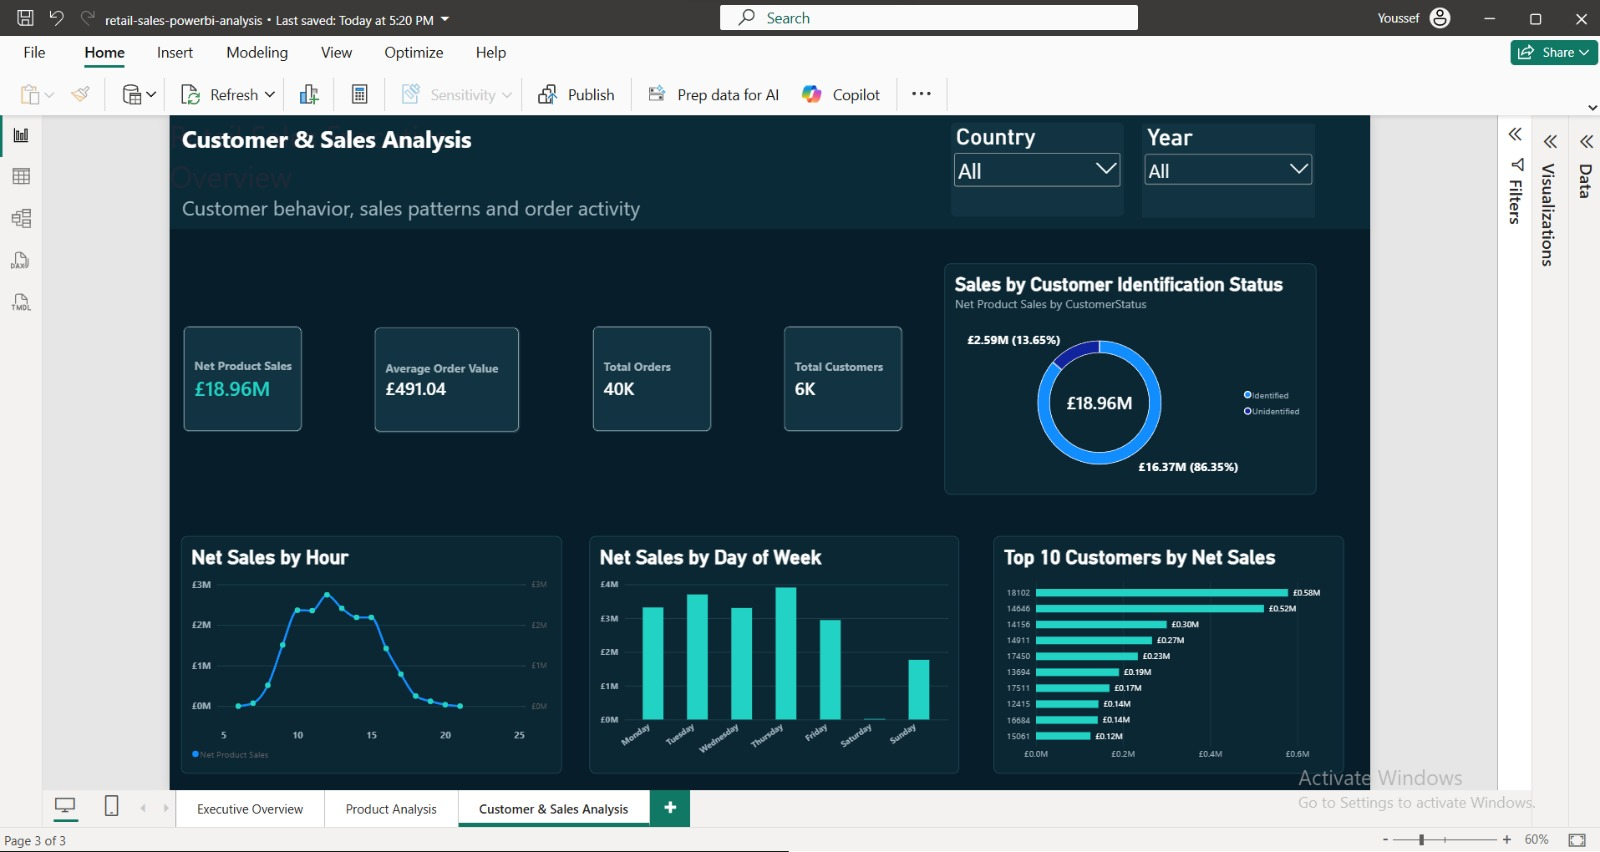

The dashboard page shown, as its layout file describes it:
{"tool":"powerbi","page":{"name":"Customer & Sales Analysis","canvas":[1920,1080],"ordinal":2},"visuals":[{"type":"shape","box":[0,0,1920.2,182],"z":0},{"type":"cardVisual","title":"Net Sales","fields":{"Data":["_Measures.Net Product Sales"]},"box":[20.9,336.6,190,169],"z":1000},{"type":"cardVisual","title":"Gross Sales","fields":{"Data":["_Measures.Average Order Value"]},"box":[327,338.4,233,168.7],"z":2000},{"type":"cardVisual","title":"Total Orders","fields":{"Data":["_Measures.Total Orders"]},"box":[676,337.2,190,169],"z":4000},{"type":"cardVisual","title":"Total Customers","fields":{"Data":["_Measures.Total Customers"]},"box":[982,337.8,190,169],"z":5000},{"type":"textbox","box":[0,0,505.5,169.8],"z":7000},{"type":"lineChart","title":"Net Sales by Hour","fields":{"Category":["Fact_Sales.Hour"],"Y":["_Measures.Net Product Sales"],"Y2":["_Measures.Net Product Sales"]},"box":[19.2,673.3,608.7,380.2],"z":8000},{"type":"barChart","title":"Top 10 Customers by Net Sales","fields":{"Category":["Dim_Customer.Customer ID"],"Y":["_Measures.Net Product Sales"]},"box":[1316.9,673.3,559.9,380.2],"z":9000},{"type":"textbox","box":[20.1,12.1,650.7,100.4],"z":10000},{"type":"textbox","box":[20,125.2,963.5,43.4],"z":11000},{"type":"slicer","fields":{"Values":["Dim_Country.Country"]},"box":[1249.2,12.1,277,150],"z":12000},{"type":"slicer","fields":{"Values":["Dim_Date.Year"]},"box":[1555.3,13,277,150],"z":13000},{"type":"donutChart","title":"Sales by Customer Identification Status","fields":{"Category":["Fact_Sales.CustomerStatus"],"Y":["_Measures.Net Product Sales"]},"box":[1238.4,237.2,594.8,369.8],"z":13001},{"type":"columnChart","title":"Net Sales by Day of Week","fields":{"Category":["Dim_Date.DayName"],"Y":["_Measures.Net Product Sales"]},"box":[671.5,673.3,591.3,380.2],"z":13002}]}

Visuals, with their boxes on the page's 1920x1080 design canvas (x1, y1, x2, y2). These are canvas units, not pixel positions in the 1600x852 screenshot, which may show the page scaled, cropped or inside an application window:
shape: box=[0, 0, 1920, 182]
"Net Sales" cardVisual: box=[21, 337, 211, 506]
"Gross Sales" cardVisual: box=[327, 338, 560, 507]
"Total Orders" cardVisual: box=[676, 337, 866, 506]
"Total Customers" cardVisual: box=[982, 338, 1172, 507]
textbox: box=[0, 0, 506, 170]
"Net Sales by Hour" lineChart: box=[19, 673, 628, 1054]
"Top 10 Customers by Net Sales" barChart: box=[1317, 673, 1877, 1054]
textbox: box=[20, 12, 671, 112]
textbox: box=[20, 125, 984, 169]
slicer - Dim_Country.Country: box=[1249, 12, 1526, 162]
slicer - Dim_Date.Year: box=[1555, 13, 1832, 163]
"Sales by Customer Identification Status" donutChart: box=[1238, 237, 1833, 607]
"Net Sales by Day of Week" columnChart: box=[672, 673, 1263, 1054]
